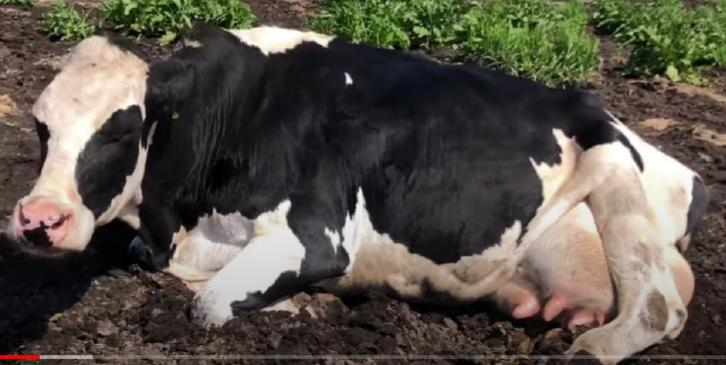cow: (11, 29, 707, 365)
